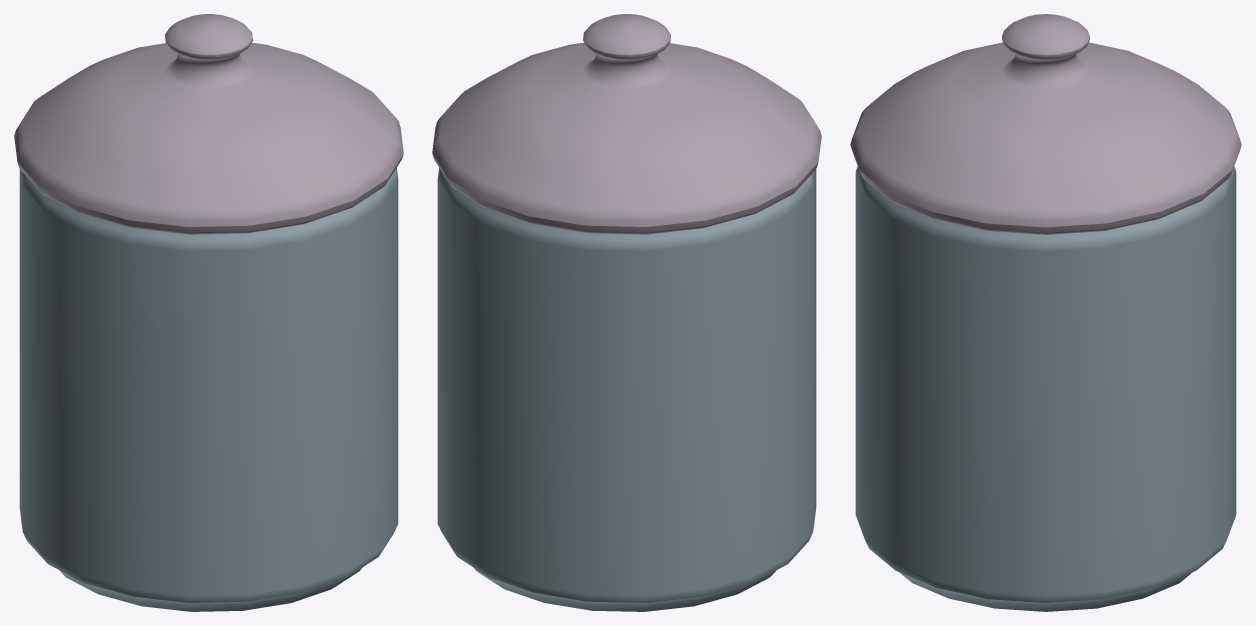
The model's file is Low_Canister.fbx.
The picture shows the model from 3 angles, left to right: view 1: azimuth 30°, elevation 25°; view 2: azimuth 150°, elevation 25°; view 3: azimuth 270°, elevation 25°; orthographic projection.
Visible parts, largest first — view 1: Lo_CanisterBody, Lo_CanisterLid; view 2: Lo_CanisterBody, Lo_CanisterLid; view 3: Lo_CanisterBody, Lo_CanisterLid.
Part boxes in pixels (left/top/right/bottom): Lo_CanisterBody: left=19, top=168, right=398, bottom=611; Lo_CanisterLid: left=14, top=14, right=403, bottom=234; Lo_CanisterBody: left=437, top=168, right=816, bottom=611; Lo_CanisterLid: left=432, top=14, right=821, bottom=234; Lo_CanisterBody: left=855, top=166, right=1236, bottom=611; Lo_CanisterLid: left=850, top=14, right=1241, bottom=234.
Size of the model in its own units: 203 by 299 by 203.
